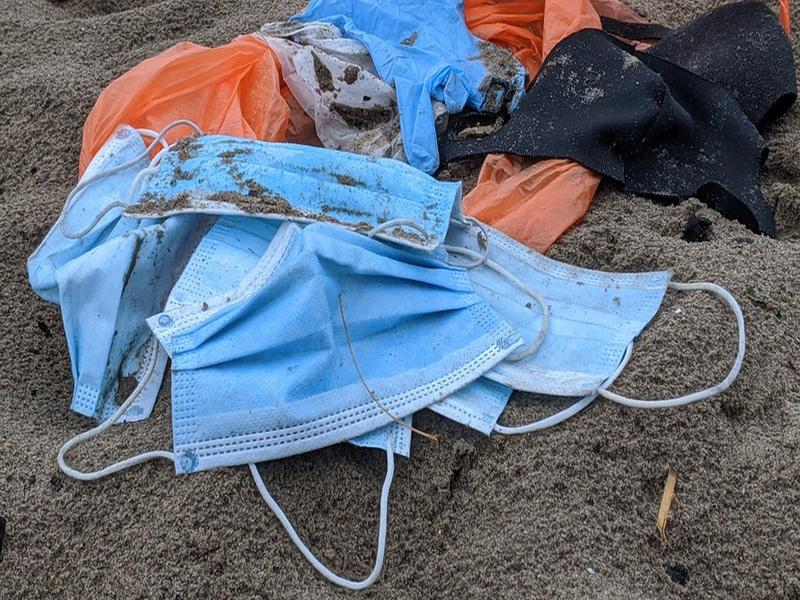gloves: (295, 1, 531, 174)
mask: (65, 223, 547, 482), (60, 122, 496, 247), (42, 210, 182, 423)
plastic: (71, 32, 294, 140), (462, 156, 601, 252)
